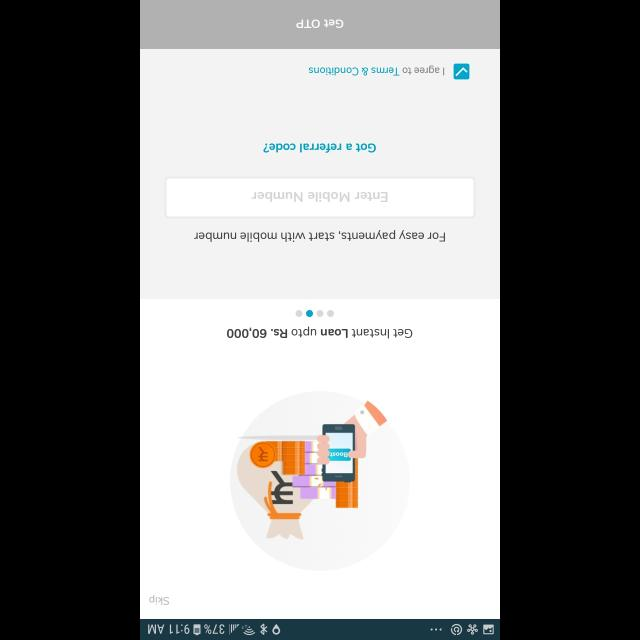checkbox: (454, 64, 470, 80)
image: (230, 390, 410, 570)
input: (164, 176, 476, 218)
pageindicator: (296, 309, 334, 317)
text: (193, 230, 444, 242), (227, 326, 413, 338), (251, 192, 387, 202), (308, 65, 444, 75), (264, 143, 376, 153), (149, 594, 169, 606)
textbutton: (141, 0, 500, 49)
uppertaskbar: (140, 618, 500, 640)
